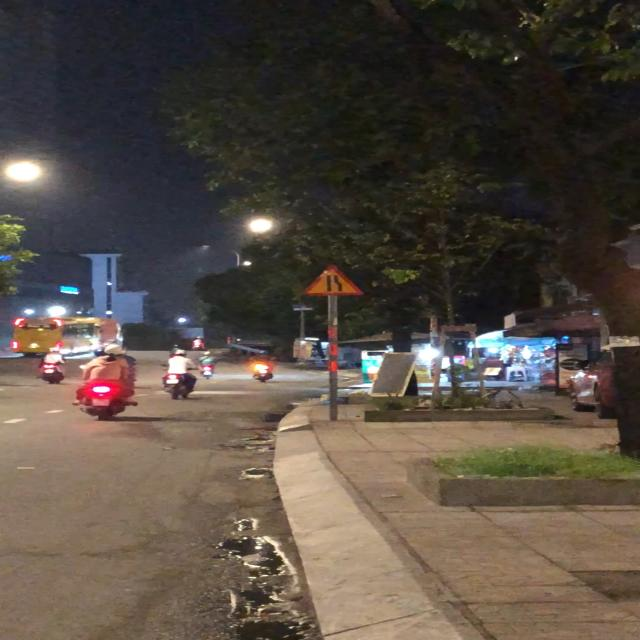Bien bao duong bi thu hep: (296, 261, 366, 297)
